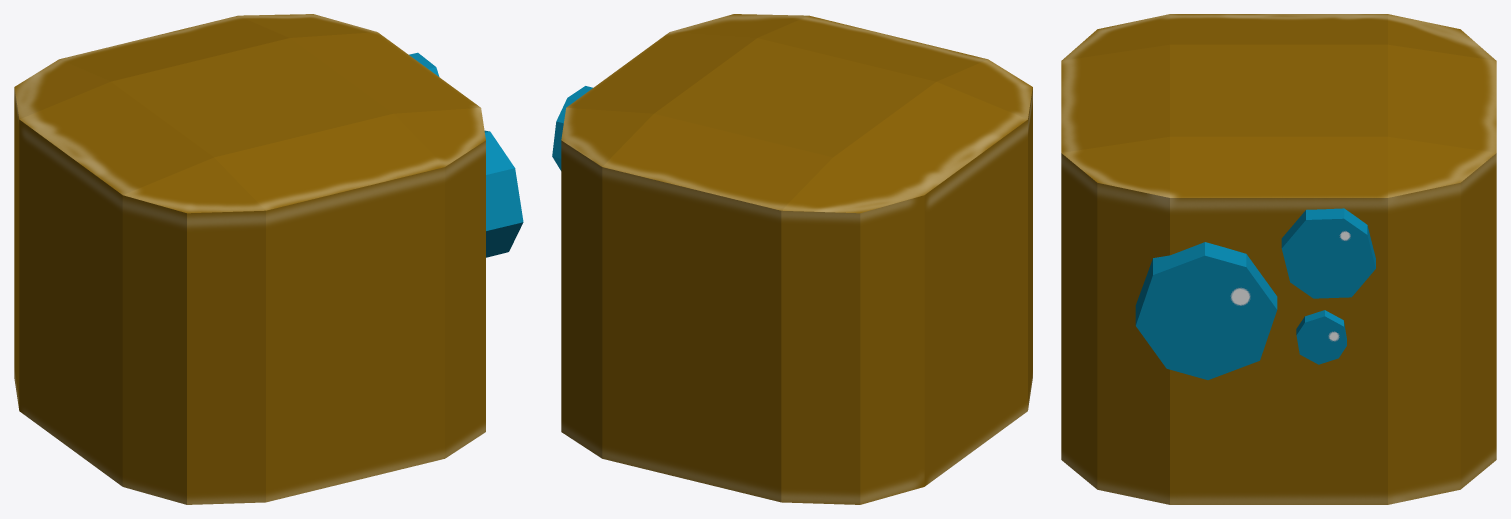
File: Boss.obj
3 renders of one model, left to right at view 1: azimuth 30°, elevation 25°; view 2: azimuth 150°, elevation 25°; view 3: azimuth 270°, elevation 25°, orthographic. The views are drawn at different scales.
Parts seen in each view (by area): view 1: 円柱.027; view 2: 円柱.027; view 3: 円柱.027.
Boxes of the visible parts, x1,y1,x2,y2 form: 円柱.027: [14, 14, 523, 504]; 円柱.027: [552, 14, 1032, 504]; 円柱.027: [1061, 14, 1496, 504].
Bounding box in the file's own units: 2.33 × 1.92 × 2.17.
1 material, 1 textured.
